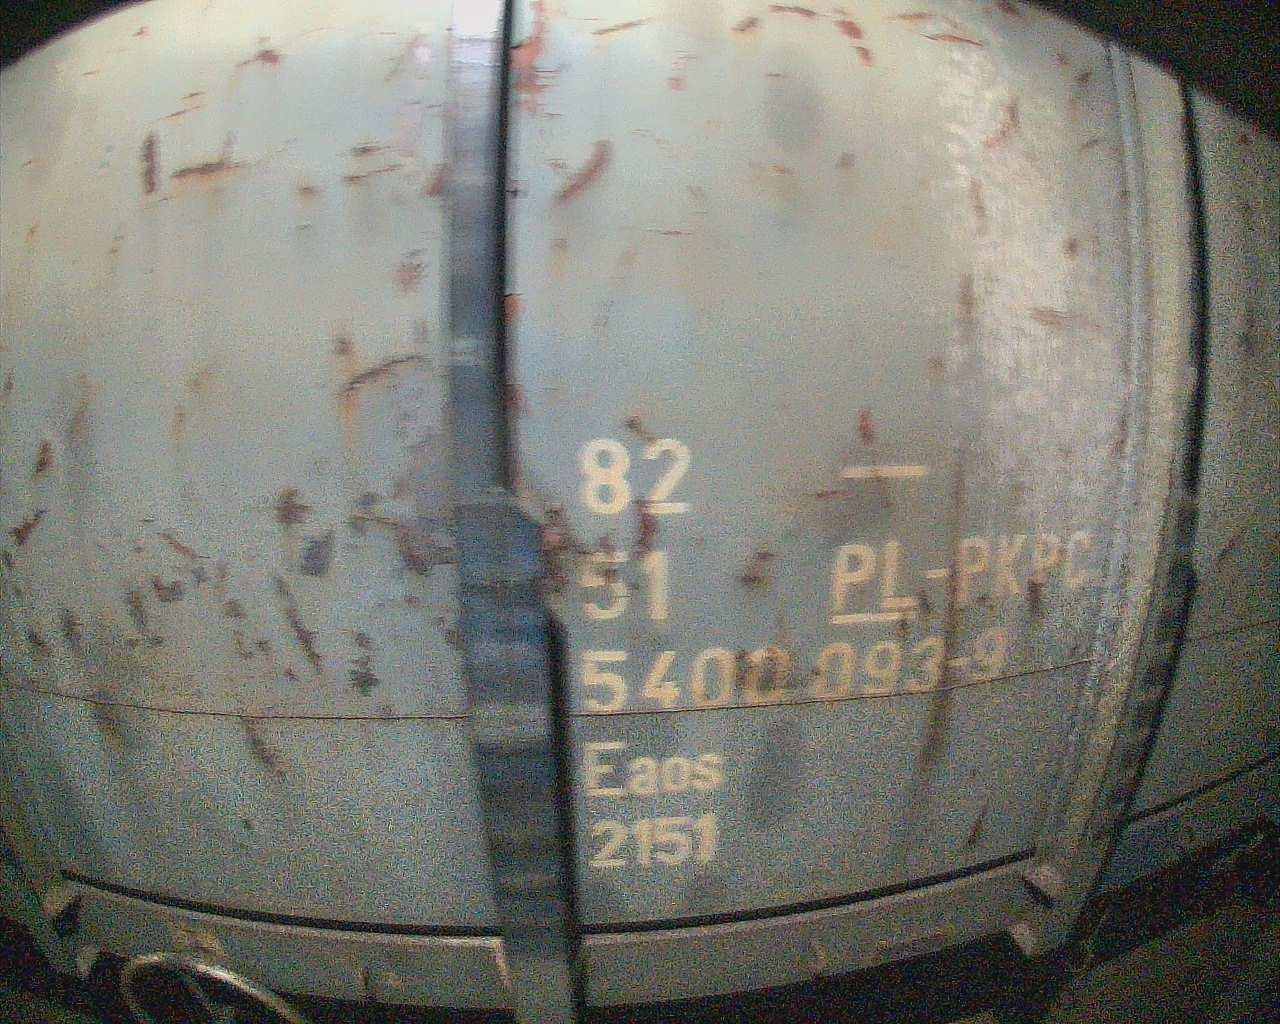UIC: (572, 436, 1092, 870)
